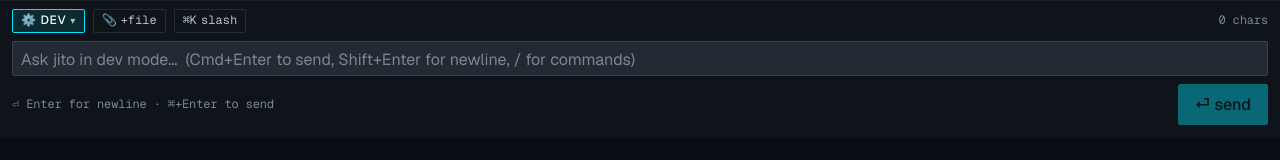
Composer › toggles the slash-command palette from the slash button
The width and height of the screenshot is (1280, 160).
Click the button with aria-label "Open slash commands" at {"x": 210, "y": 21}, box [174, 9, 246, 33]
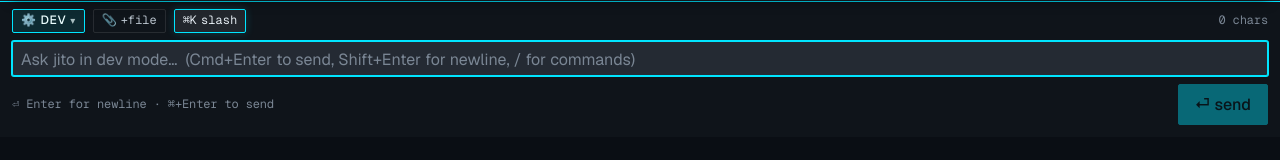
Result: the button with aria-label "Open slash commands" is expanded
Click the button with aria-label "Open slash commands" at {"x": 210, "y": 21}, box [174, 9, 246, 33]
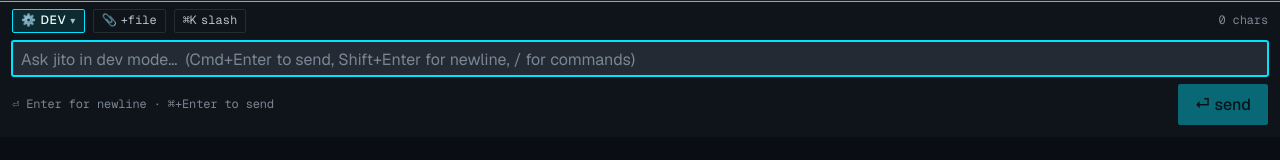
Result: the button with aria-label "Open slash commands" is collapsed at [174, 9, 246, 33]
